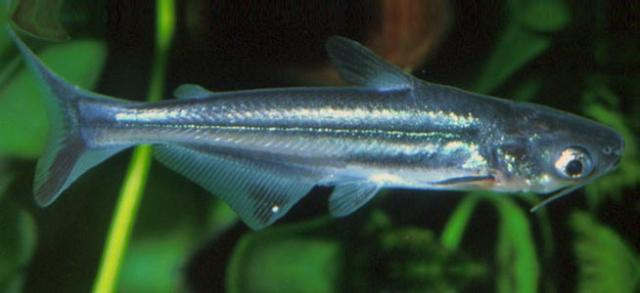Mulut: (582, 115, 638, 197)
Sirip Anal: (151, 135, 319, 234)
Sirip Dada: (418, 150, 512, 210)
Sirip Ekor: (6, 19, 106, 212)
Sirip Perut: (324, 171, 390, 223)
Sirip Punggung: (317, 28, 413, 96)
